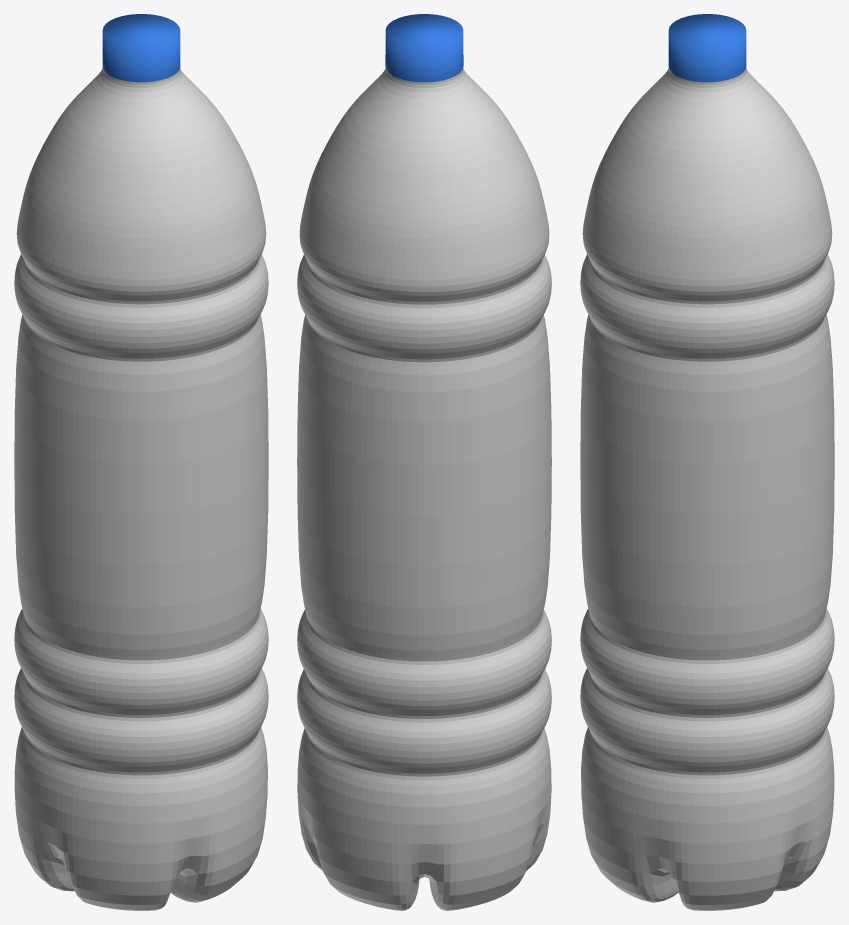
File: bottle.fbx
The picture shows the model from 3 angles, left to right: view 1: azimuth 30°, elevation 25°; view 2: azimuth 150°, elevation 25°; view 3: azimuth 270°, elevation 25°; orthographic projection.
Parts seen in each view (by area): view 1: 실린더; view 2: 실린더; view 3: 실린더.
Part boxes in pixels (box(x1,y1,x2,y2)): 실린더: box(14, 14, 268, 910); 실린더: box(297, 14, 551, 910); 실린더: box(580, 14, 834, 910).
Bounding box in the file's own units: 73.53 × 270 × 73.53.
